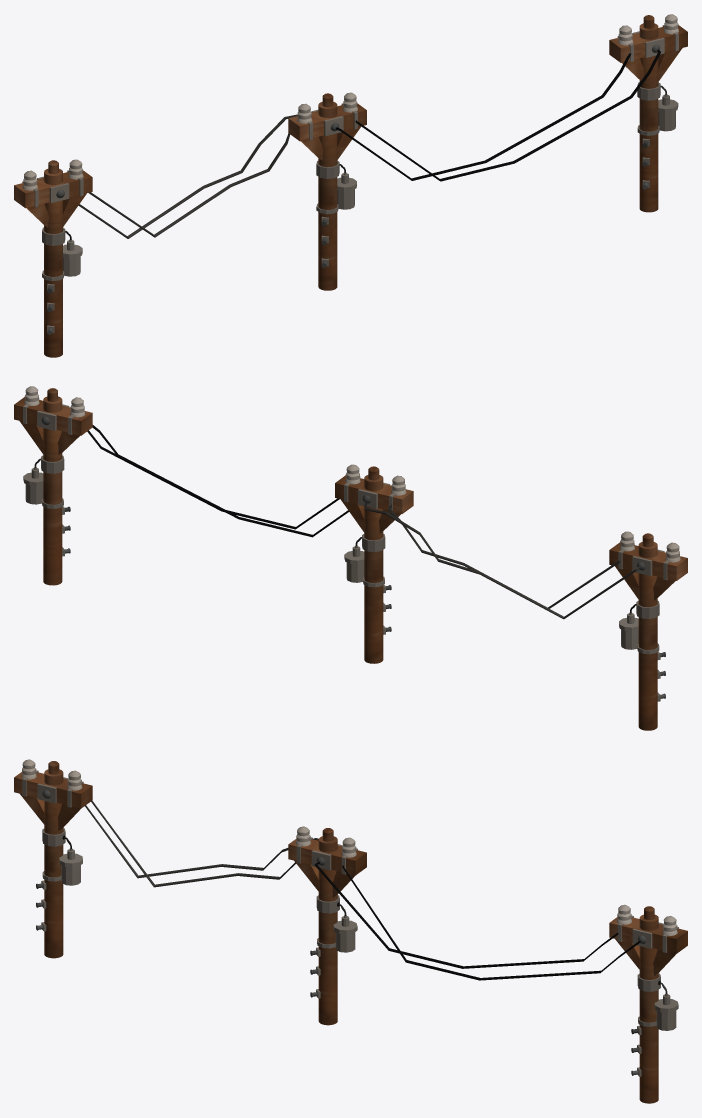
The model's file is elektrik direği.fbx.
The picture shows the model from 3 angles, top to bottom: view 1: azimuth 30°, elevation 25°; view 2: azimuth 150°, elevation 25°; view 3: azimuth 330°, elevation 25°; orthographic projection.
Visible parts, largest first — view 1: Cylinder; view 2: Cylinder; view 3: Cylinder.
Part boxes in pixels (<box>): Cylinder: <box>14,14,687,357</box>; Cylinder: <box>14,386,687,730</box>; Cylinder: <box>14,759,687,1103</box>.
Bounding box in the file's own units: 2298 × 635 × 204.
1 material, 1 textured.
